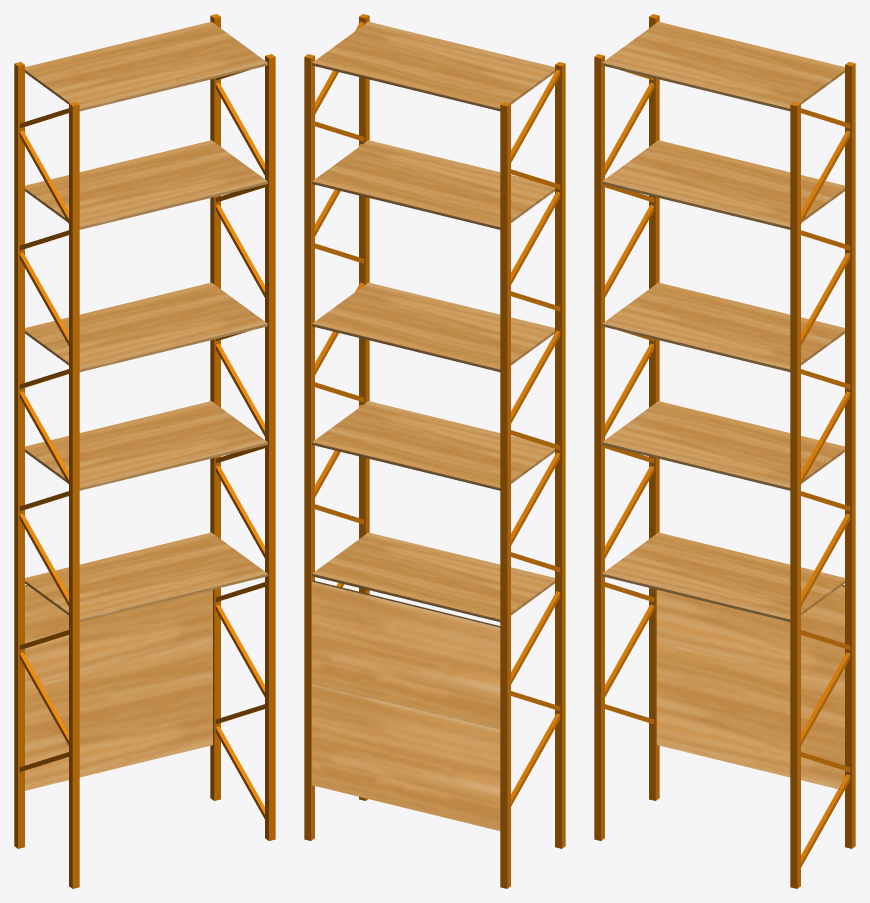
Rendered from Industrial_Rack_10.fbx.
3 views of the same model, side by side, from view 1: azimuth 30°, elevation 25°; view 2: azimuth 150°, elevation 25°; view 3: azimuth 330°, elevation 25° (orthographic).
Visible parts, largest first — view 1: Industrial_Rack_10; view 2: Industrial_Rack_10; view 3: Industrial_Rack_10.
Boxes of the visible parts, x1=… form: Industrial_Rack_10: x1=14, y1=14, x2=275, y2=888; Industrial_Rack_10: x1=304, y1=14, x2=565, y2=888; Industrial_Rack_10: x1=594, y1=14, x2=855, y2=888.
Bounding box in the file's own units: 2 × 7.37 × 1.
